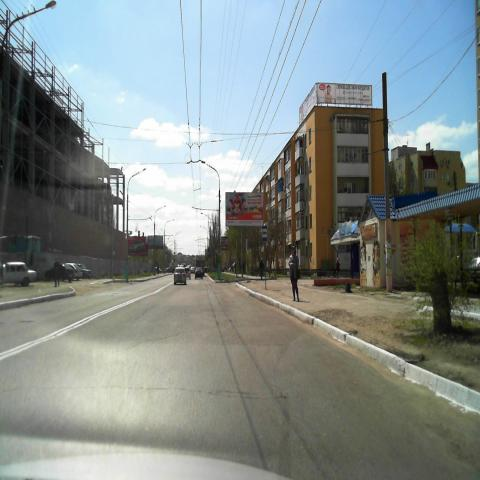5_16: (262, 226, 268, 241)
